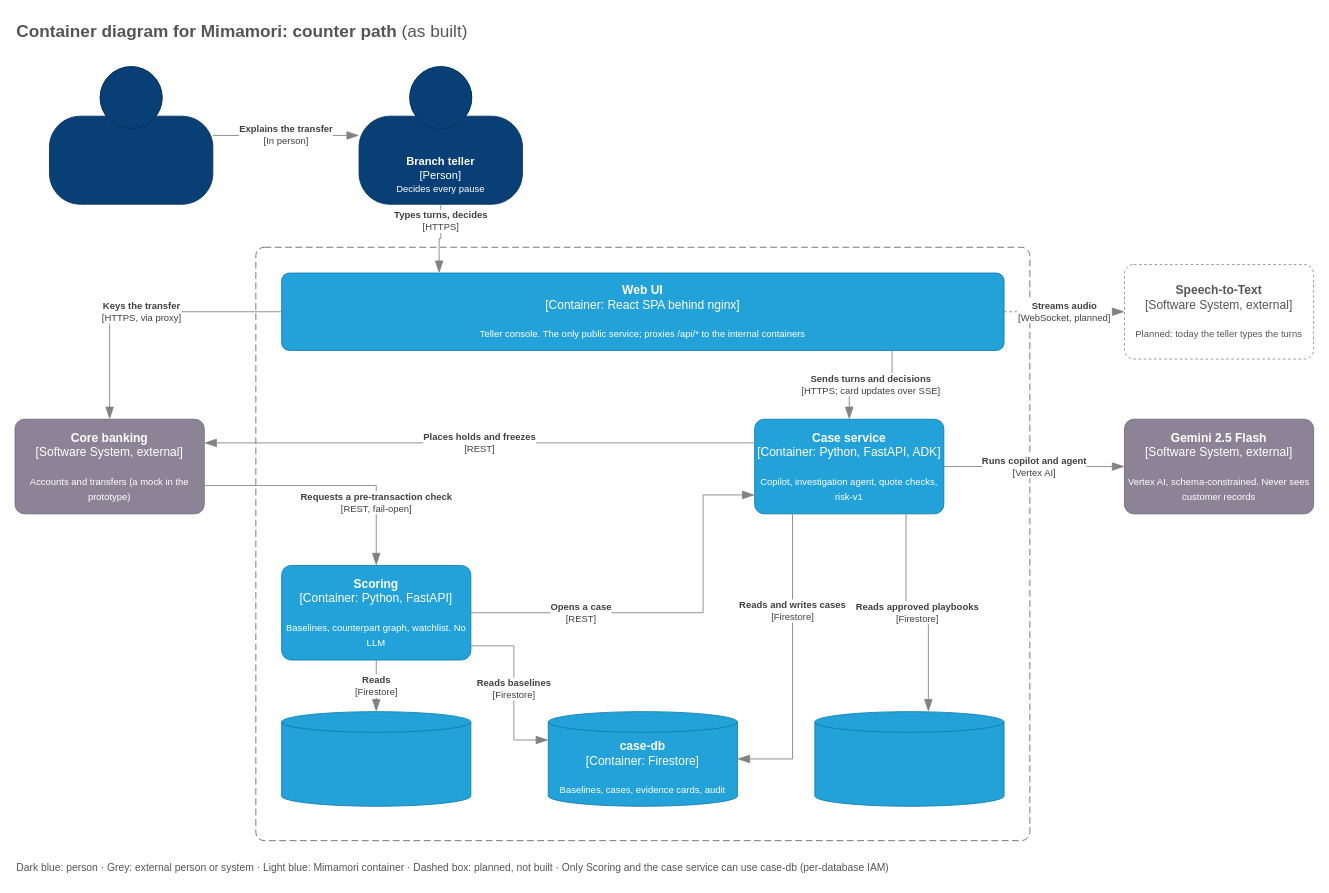
Some shapes in this 1329 by 893 pixel diagram are drawn without their labels. Each missing label, with the box of its shape:
Customer [Person] At the counter: (49, 66, 213, 204)
intel-db [Container: Firestore] Approved playbooks: (814, 711, 1004, 806)
Mimamori [Software System]: (255, 246, 1030, 841)
ref-db [Container: Firestore] Watchlist snapshot: (281, 711, 471, 806)
